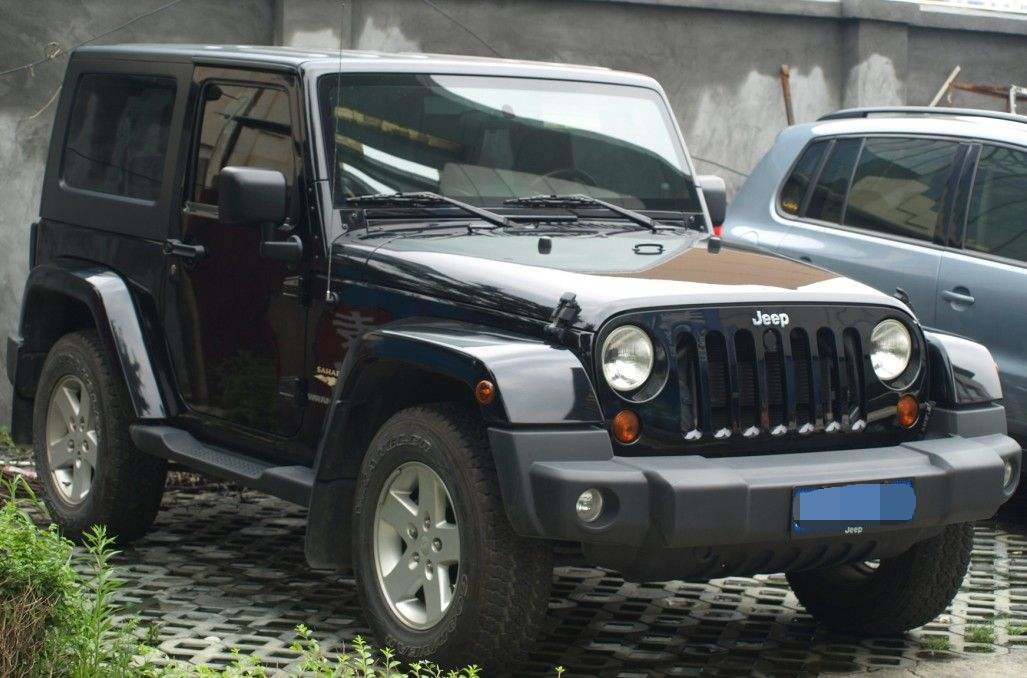jeep: (17, 30, 1022, 662)
